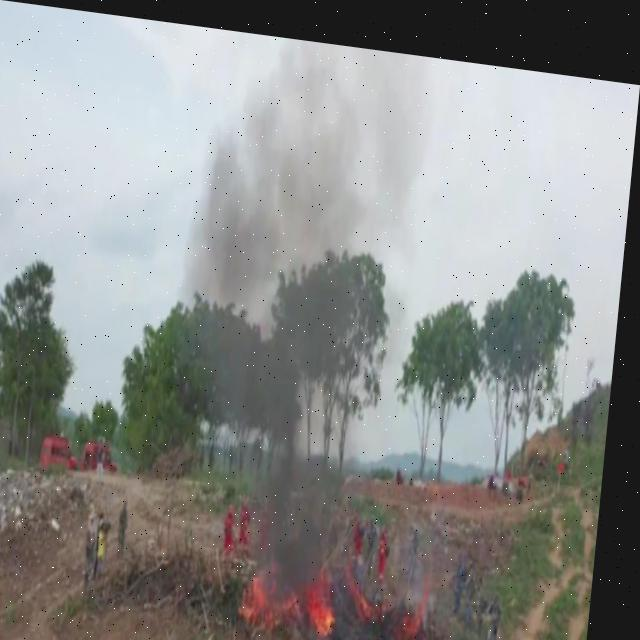Fire: (251, 546, 352, 635), (353, 548, 446, 639)
